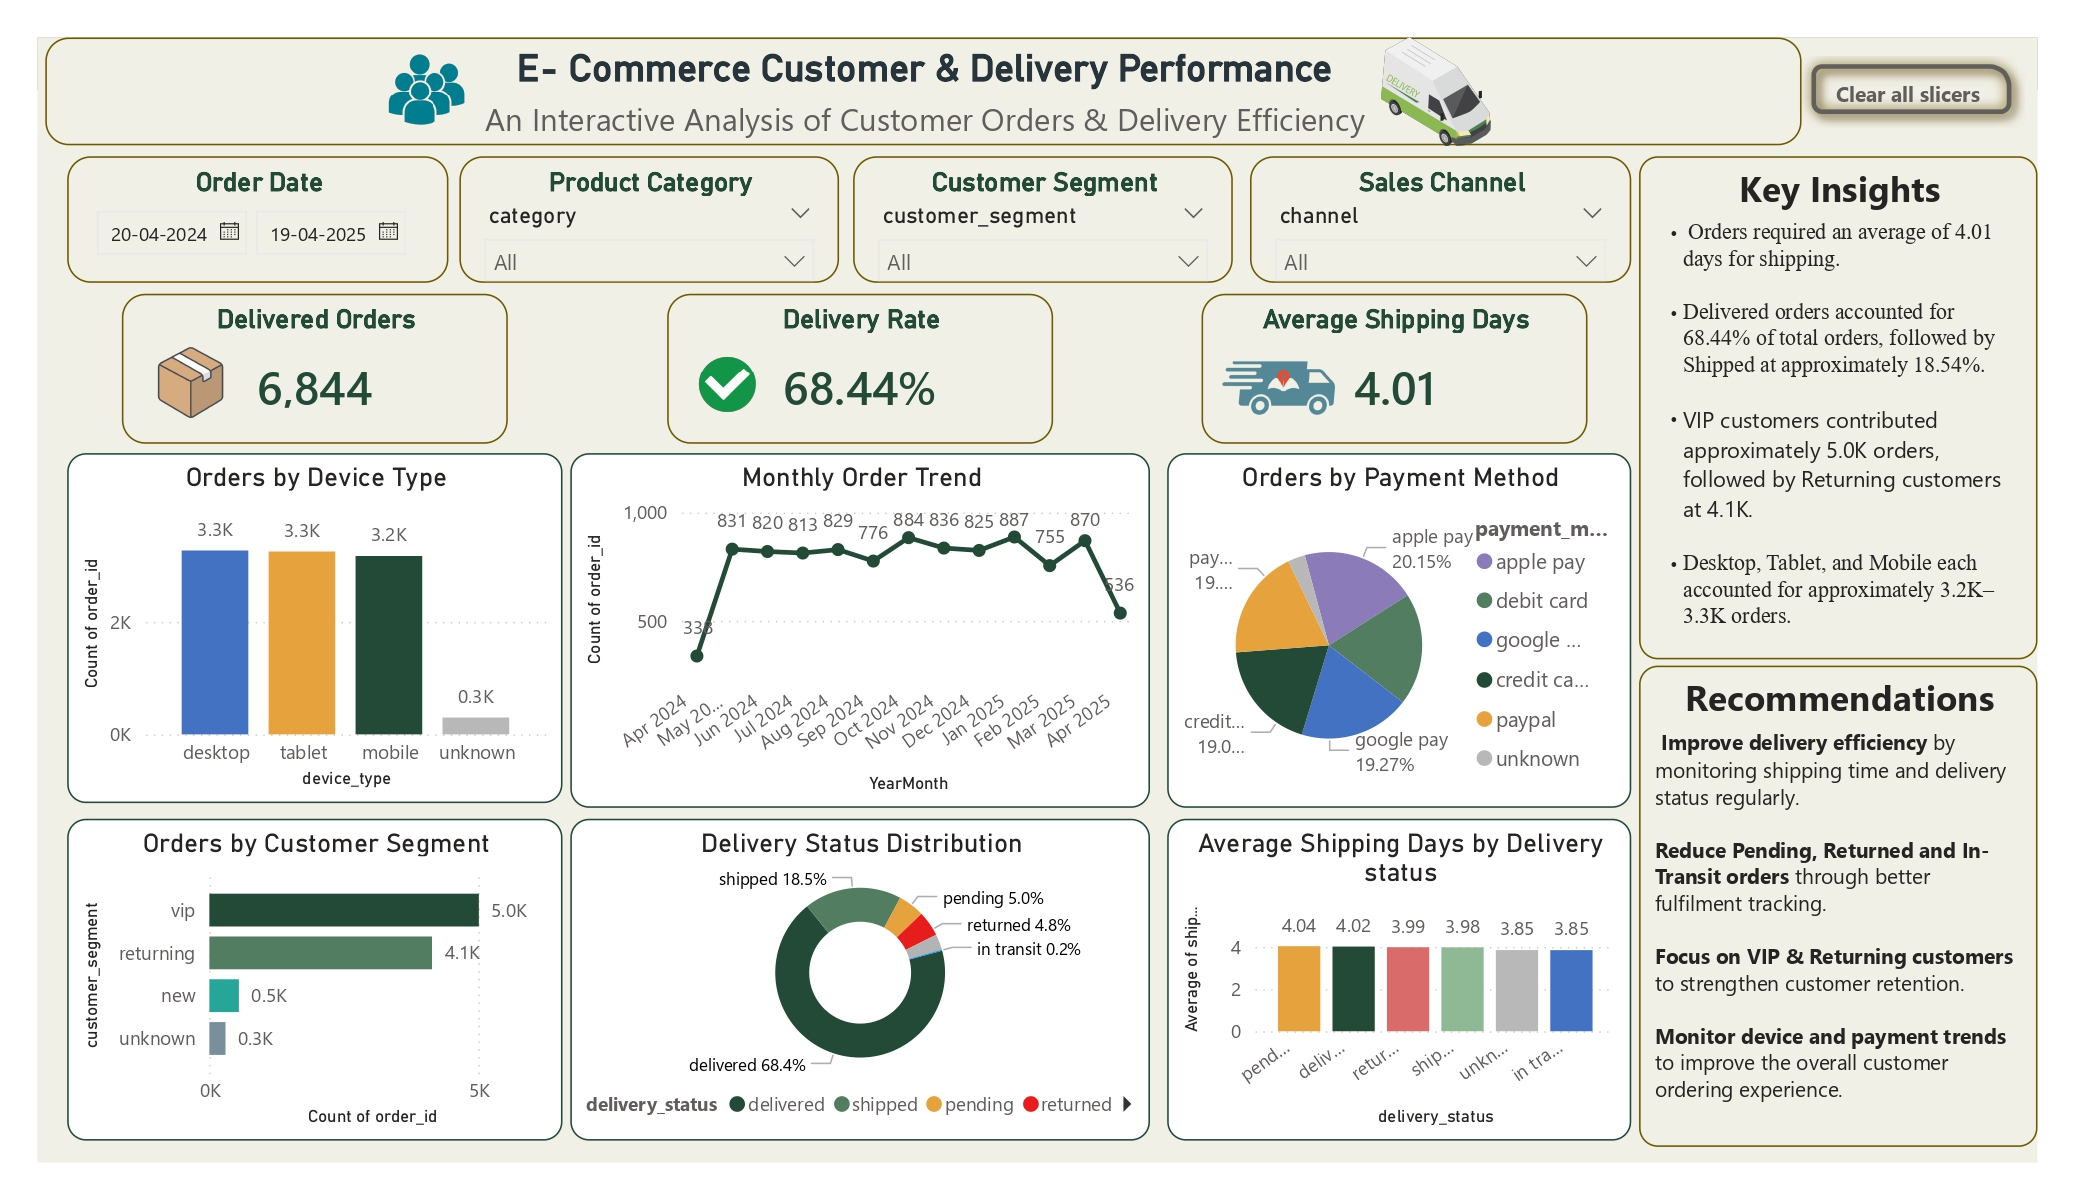

What the dashboard file says about the page in this screenshot:
{"tool":"powerbi","page":{"name":"Customer & Delivery Performance","canvas":[1280,720],"ordinal":1},"visuals":[{"type":"textbox","title":"E- Commerce Customer & Delivery Performance","box":[5.1,0,1124,69],"z":0,"group":"g5"},{"type":"cardVisual","title":"Average Shipping Days","fields":{"Data":["ECommerce.Average Shipping Days"]},"box":[744.6,163.8,247,96],"z":0,"group":"g1"},{"type":"clusteredBarChart","title":"Orders by Customer Segment","fields":{"Category":["ECommerce.customer_segment"],"Y":["CountNonNull(ECommerce.order_id)"]},"box":[19.3,499.6,316.6,206.5],"z":0},{"type":"image","box":[834.8,0,120.1,69],"z":1000,"group":"g5"},{"type":"cardVisual","title":"Delivered Orders","fields":{"Data":["ECommerce.Delivered Orders Display"]},"box":[53.7,163.8,247,96],"z":1000,"group":"g3"},{"type":"lineChart","title":"Monthly Order Trend","fields":{"Category":["ECommerce.YearMonth"],"Y":["CountNonNull(ECommerce.order_id)"]},"box":[341.3,265.6,370.2,227.1],"z":1000},{"type":"image","box":[188.6,8.3,121.5,49.7],"z":2000,"group":"g5"},{"type":"cardVisual","title":"Delivery Rate","fields":{"Data":["ECommerce.Delivery Rate"]},"box":[403.3,163.8,247,96],"z":2000,"group":"g4"},{"type":"clusteredColumnChart","title":"Orders by Device Type","fields":{"Category":["ECommerce.device_type"],"Y":["CountNonNull(ECommerce.order_id)"]},"box":[19.3,265.6,316.6,224.3],"z":2000},{"type":"donutChart","title":"Delivery Status Distribution","fields":{"Category":["ECommerce.delivery_status"],"Y":["CountNonNull(ECommerce.order_id)"]},"box":[341.3,499.6,370.2,206.5],"z":3000},{"type":"clusteredColumnChart","title":"Average Shipping Days by  Delivery status","fields":{"Category":["ECommerce.delivery_status"],"Y":["Avg(ECommerce.shipping_days)"]},"box":[722.6,499.6,297.3,206.5],"z":4000},{"type":"pieChart","title":"Orders by Payment Method","fields":{"Category":["ECommerce.payment_method"],"Y":["CountNonNull(ECommerce.order_id)"]},"box":[722.6,265.6,297.3,227.1],"z":5000},{"type":"slicer","title":"Order Date","fields":{"Values":["ECommerce.order_date"]},"box":[19.3,75.7,243.6,81.2],"z":6000},{"type":"slicer","title":"Product Category","fields":{"Values":["ECommerce.category"]},"box":[269.8,75.7,243.6,81.2],"z":7000},{"type":"slicer","title":"Customer Segment","fields":{"Values":["ECommerce.customer_segment"]},"box":[521.6,75.7,243.6,81.2],"z":8000},{"type":"slicer","title":"Sales Channel","fields":{"Values":["ECommerce.channel"]},"box":[776.3,75.7,243.6,81.2],"z":9000},{"type":"textbox","title":"Recommendations","box":[1024.6,402,255.4,307.9],"z":11000},{"type":"group","id":"g1","title":"Group 1","box":[722.6,163.8,269,96.3],"z":12000},{"type":"group","id":"g2","title":"Group 2","box":[5.1,0,1124,69],"z":13000},{"type":"group","id":"g3","title":"Group 3","box":[53.7,163.8,247,96],"z":14000},{"type":"group","id":"g4","title":"Group 4","box":[403.3,163.8,247,96],"z":15000},{"type":"textbox","title":"Key Insights","box":[1024.6,75.9,255.4,321.7],"z":15001},{"type":"image","box":[53.7,196.8,88.1,48.2],"z":15001,"group":"g3"},{"type":"image","box":[403.3,202.3,77.1,38.5],"z":15002,"group":"g4"},{"type":"actionButton","box":[1126,8,145.9,49.5],"z":15003},{"type":"image","box":[722.6,181.7,145.9,78.5],"z":15003,"group":"g1"},{"type":"group","id":"g5","title":"Group 5","box":[5.1,0,1124,69],"z":15004,"group":"g2"}]}

Visuals, with their boxes on the page's 1280x720 design canvas (x1, y1, x2, y2). These are canvas units, not pixel positions in the 2075x1200 screenshot, which may show the page scaled, cropped or inside an application window:
"E- Commerce Customer & Delivery Performance" textbox: 5 0 1129 69
"Average Shipping Days" cardVisual: 745 164 992 260
"Orders by Customer Segment" clusteredBarChart: 19 500 336 706
image: 835 0 955 69
"Delivered Orders" cardVisual: 54 164 301 260
"Monthly Order Trend" lineChart: 341 266 712 493
image: 189 8 310 58
"Delivery Rate" cardVisual: 403 164 650 260
"Orders by Device Type" clusteredColumnChart: 19 266 336 490
"Delivery Status Distribution" donutChart: 341 500 712 706
"Average Shipping Days by  Delivery status" clusteredColumnChart: 723 500 1020 706
"Orders by Payment Method" pieChart: 723 266 1020 493
"Order Date" slicer: 19 76 263 157
"Product Category" slicer: 270 76 513 157
"Customer Segment" slicer: 522 76 765 157
"Sales Channel" slicer: 776 76 1020 157
"Recommendations" textbox: 1025 402 1280 710
"Group 1" group: 723 164 992 260
"Group 2" group: 5 0 1129 69
"Group 3" group: 54 164 301 260
"Group 4" group: 403 164 650 260
"Key Insights" textbox: 1025 76 1280 398
image: 54 197 142 245
image: 403 202 480 241
actionButton: 1126 8 1272 58
image: 723 182 868 260
"Group 5" group: 5 0 1129 69
